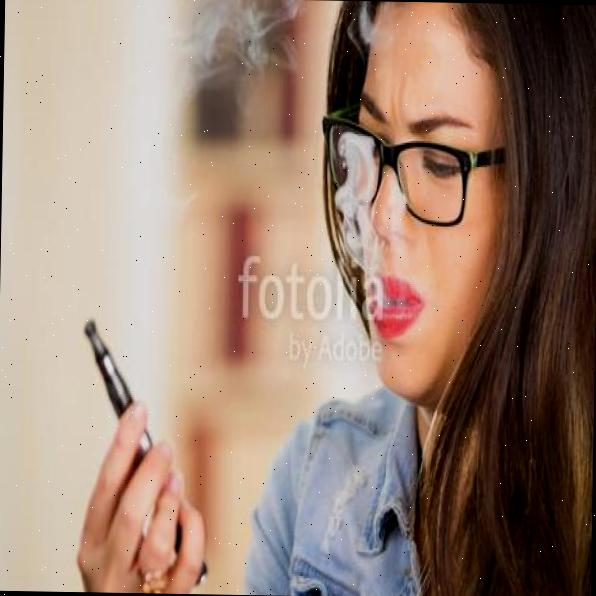smoke: (328, 137, 405, 309)
